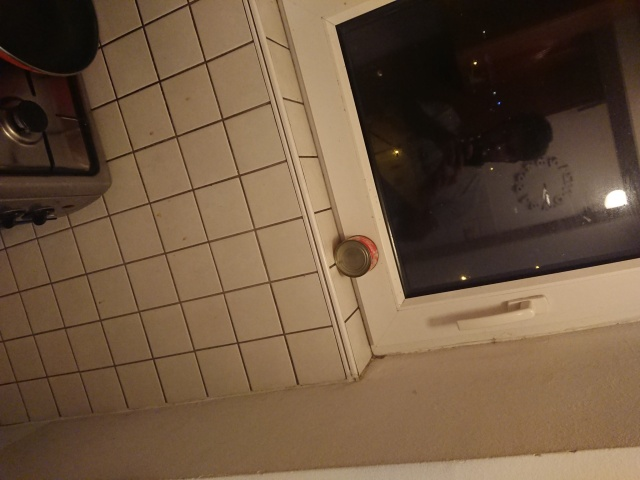Podravka Luncheon Meat 150g: (332, 233, 381, 279)
